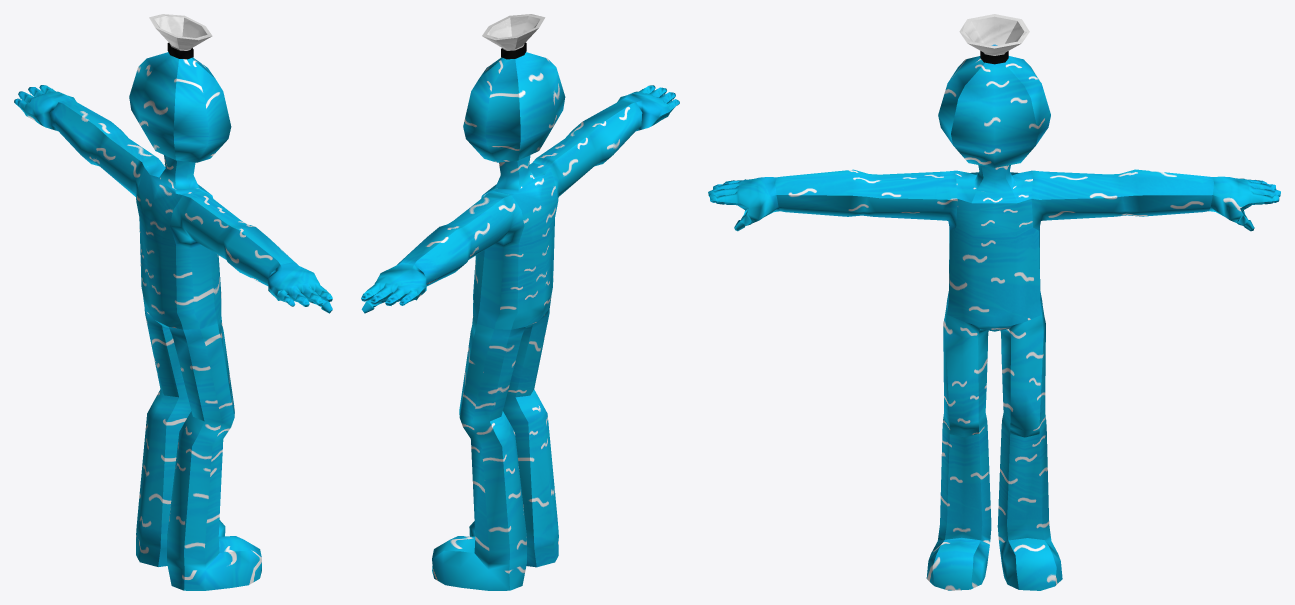
File: Gold Fish Bag Character.glb
The picture shows the model from 3 angles, left to right: view 1: azimuth 30°, elevation 25°; view 2: azimuth 150°, elevation 25°; view 3: azimuth 270°, elevation 25°; orthographic projection.
Visible parts, largest first — view 1: _100Avatars_106_GoldfishBagPerson__1_; view 2: _100Avatars_106_GoldfishBagPerson__1_; view 3: _100Avatars_106_GoldfishBagPerson__1_.
Part boxes in pixels (x1,y1,x2,y2): _100Avatars_106_GoldfishBagPerson__1_: (14, 14, 332, 590); _100Avatars_106_GoldfishBagPerson__1_: (361, 14, 679, 590); _100Avatars_106_GoldfishBagPerson__1_: (708, 14, 1280, 590).
Size of the model in its own units: 0.9713 by 5.08 by 4.91.
1 material, 1 textured.
